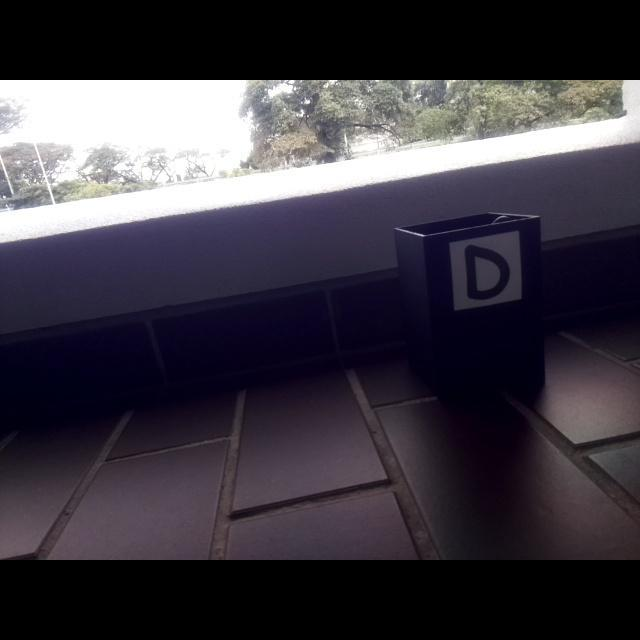D: (463, 243, 511, 302)
